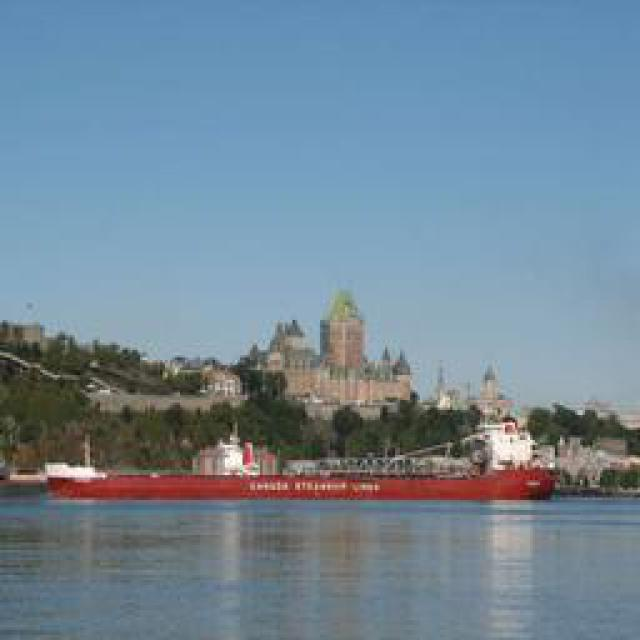Ship: (42, 450, 552, 508)
